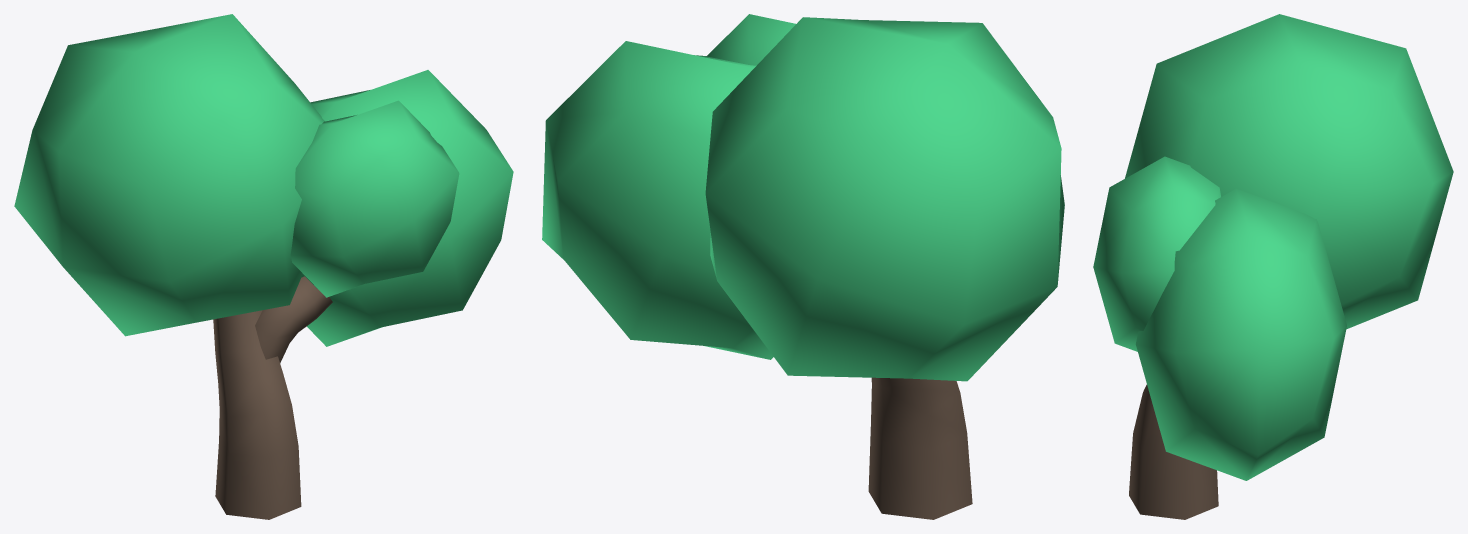
The model's file is TreeB.fbx.
3 renders of one model, left to right at view 1: azimuth 30°, elevation 25°; view 2: azimuth 150°, elevation 25°; view 3: azimuth 270°, elevation 25°, orthographic. The views are drawn at different scales.
Visible parts, largest first — view 1: TreeB; view 2: TreeB; view 3: TreeB.
Boxes of the visible parts, x1,y1,x2,y2 form: TreeB: (14,14,513,519); TreeB: (542,14,1064,519); TreeB: (1093,14,1453,519).
Bounding box in the file's own units: 174 × 168 × 121.
